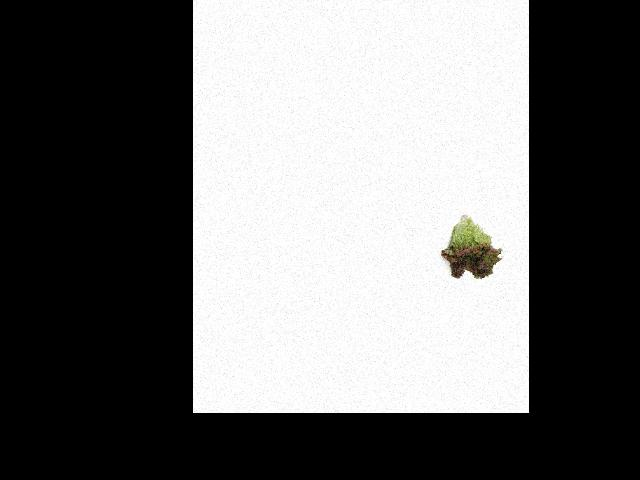lettuce: (435, 213, 504, 287)
